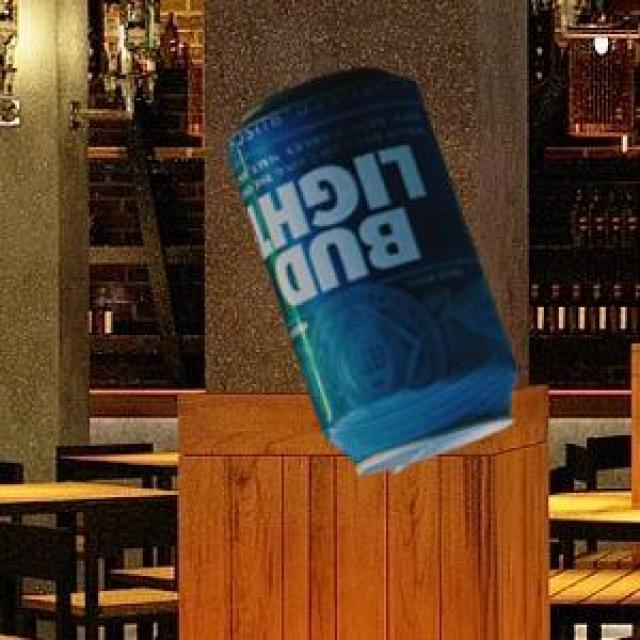Can: (223, 65, 513, 470)
